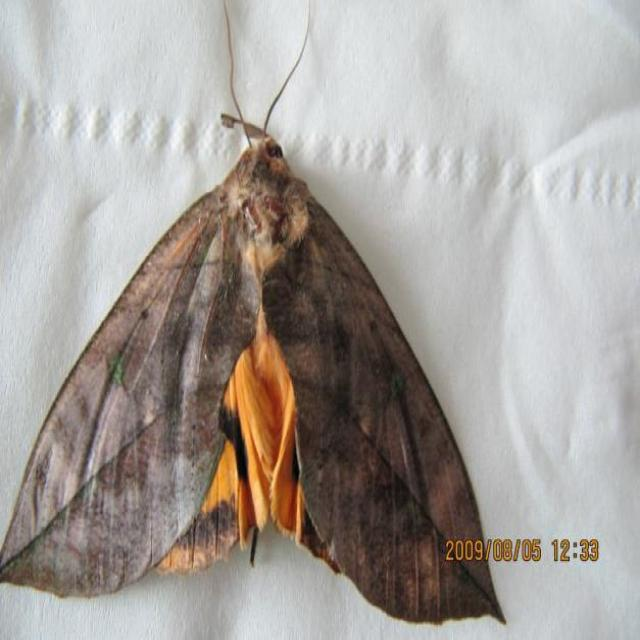armyworm: (1, 69, 514, 634)
